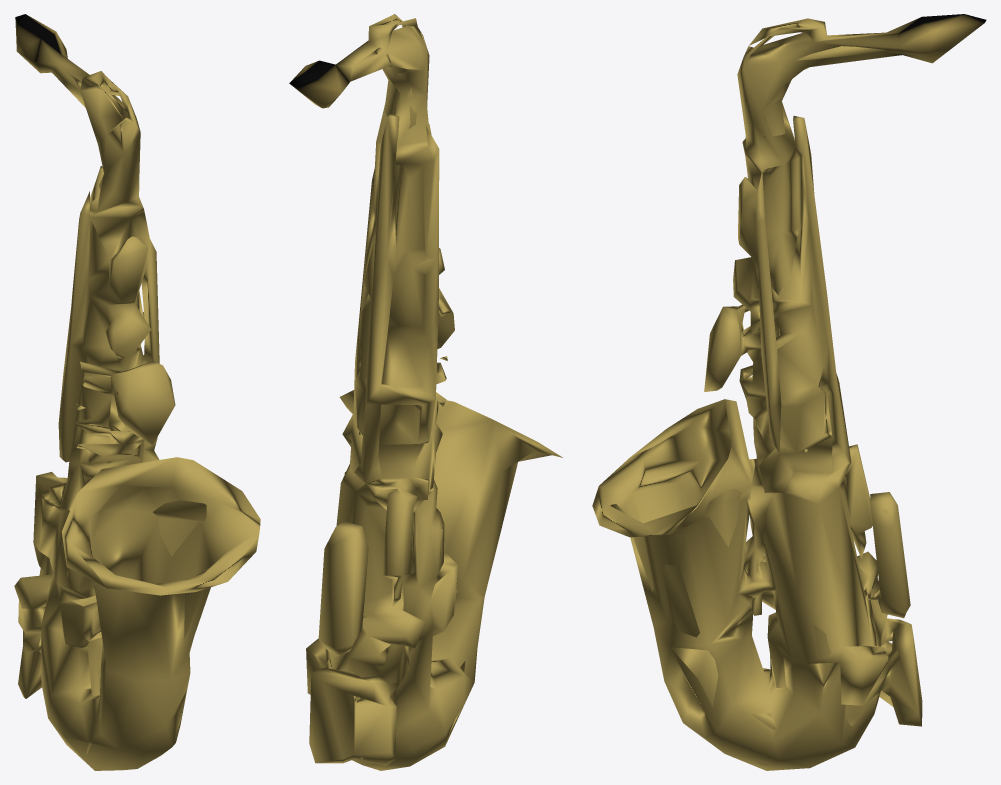
File: gen3d-saxophone-lod1.glb
3 renders of one model, left to right at view 1: azimuth 30°, elevation 25°; view 2: azimuth 150°, elevation 25°; view 3: azimuth 270°, elevation 25°, orthographic. The views are drawn at different scales.
Visible parts, largest first — view 1: part_0; view 2: part_0; view 3: part_0.
Boxes of the visible parts, x1,y1,x2,y2 form: part_0: (14, 14, 260, 770); part_0: (289, 14, 562, 770); part_0: (592, 14, 986, 770).
Size of the model in its own units: 0.2982 by 0.9993 by 0.4755.
